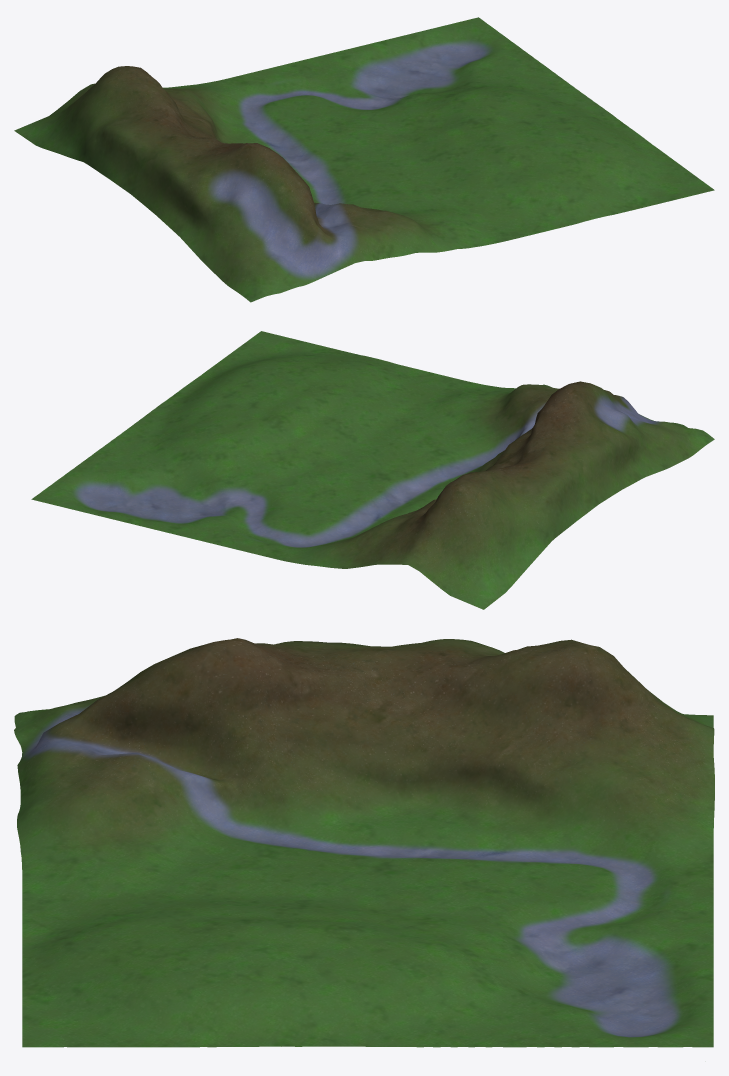
The model's file is Environment_mesh.fbx.
3 views of the same model, one above another, from view 1: azimuth 30°, elevation 25°; view 2: azimuth 150°, elevation 25°; view 3: azimuth 270°, elevation 25° (orthographic). The views are drawn at different scales.
Visible parts, largest first — view 1: pPlane2; view 2: pPlane2; view 3: pPlane2.
Part boxes in pixels (bbox=[...]): pPlane2: bbox=[14, 17, 714, 302]; pPlane2: bbox=[31, 331, 714, 609]; pPlane2: bbox=[14, 638, 714, 1047].
Size of the model in its own units: 319 by 61.53 by 272.
